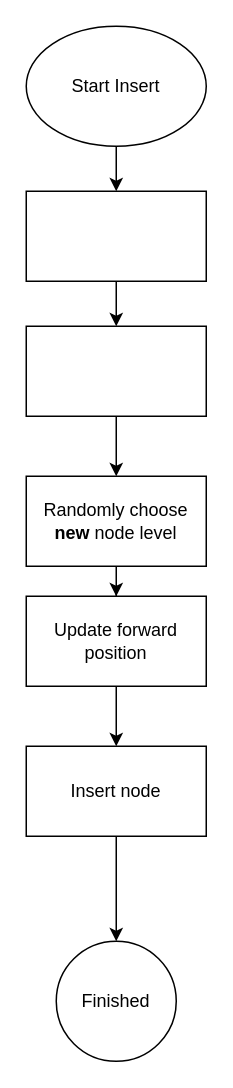
The diagram is 233 pixels wide and 1088 high, and some of its shapes have lost their labels. The shapes that lost their labels are listed below. From the top down, each one's centre as x and y in pixels, then its label:
At (x=115, y=235): "Traverse from top level down".
At (x=115, y=370): "Find correct position at each level".
